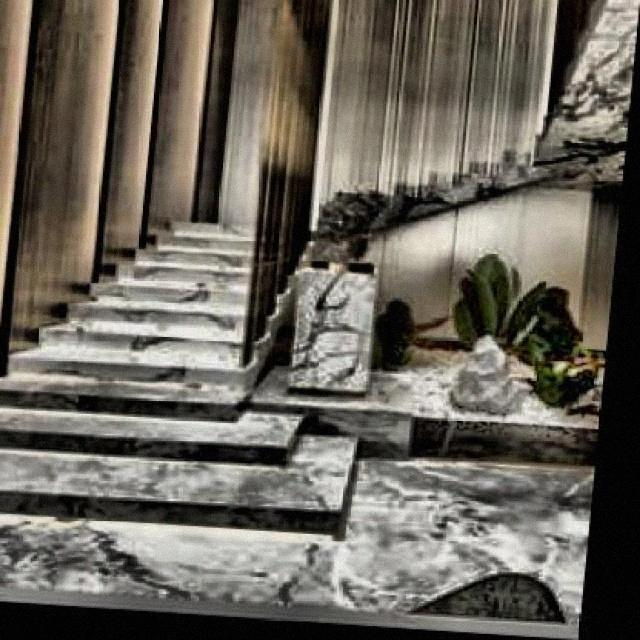stair: (1, 206, 312, 489)
